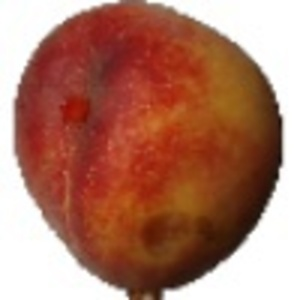pêssego: (11, 1, 286, 300)
